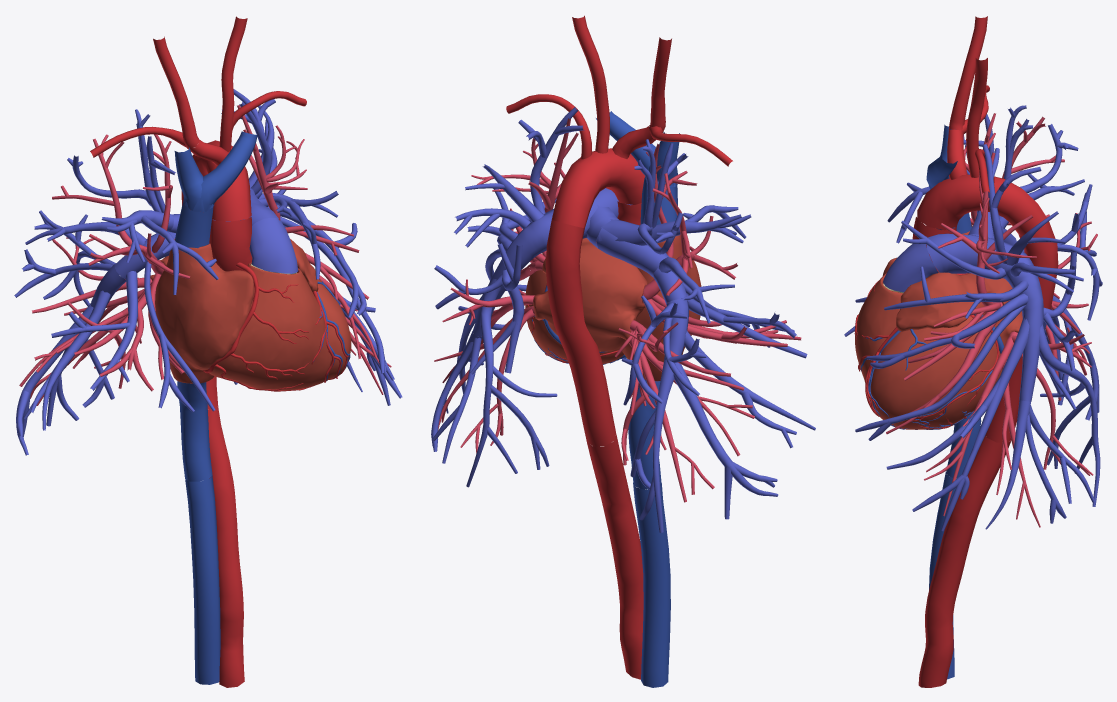
Rendered from heart.glb.
The picture shows the model from 3 angles, left to right: view 1: azimuth 30°, elevation 25°; view 2: azimuth 150°, elevation 25°; view 3: azimuth 270°, elevation 25°; orthographic projection. The views are drawn at different scales.
Visible parts, largest first — view 1: right-ventricle, right-atrium, abdominal-aorta, inferior-vena-cava-abdominal-part, inferior-vena-cava-thoracic-part, anterior-segmental-artery-of-right-lung, pulmonary-trunk, apical-segmental-artery-of-right-lung, superior-segmental-artery-of-right-lung, left-brachiocephalic-vein, ascending-aorta, lateral-segmental-artery-of-right-lung (+29 smaller); view 2: thoracic-aorta, abdominal-aorta, left-atrium, inferior-vena-cava-abdominal-part, aortic-arch, posterior-basal-segmental-artery-of-left-lung, superior-segmental-artery-of-right-lung, anterior-basal-segmental-artery-of-right-lung, apical-segmental-artery-of-right-lung, anterior-basal-segmental-artery-of-left-lung, posterior-segmental-artery-of-left-lung, left-common-carotid-artery (+33 smaller); view 3: left-ventricle, abdominal-aorta, aortic-arch, left-atrium, lateral-basal-segmental-artery-of-left-lung, anterior-basal-segmental-artery-of-left-lung, left-pulmonary-artery, thoracic-aorta, right-ventricle, anterior-segmental-artery-of-left-lung, posterior-basal-segmental-artery-of-left-lung, apicoposterior-vein-of-left-lung (+28 smaller).
Part boxes in pixels (<box>): right-ventricle: <box>204,262,330,390</box>; right-atrium: <box>155,239,253,383</box>; abdominal-aorta: <box>207,407,244,687</box>; inferior-vena-cava-abdominal-part: <box>185,475,220,684</box>; inferior-vena-cava-thoracic-part: <box>177,381,212,481</box>; anterior-segmental-artery-of-right-lung: <box>101,210,218,294</box>; pulmonary-trunk: <box>249,218,298,273</box>; apical-segmental-artery-of-right-lung: <box>67,109,175,212</box>; superior-segmental-artery-of-right-lung: <box>14,210,115,306</box>; left-brachiocephalic-vein: <box>183,131,257,211</box>; ascending-aorta: <box>209,217,252,271</box>; lateral-segmental-artery-of-right-lung: <box>51,271,137,390</box>; thoracic-aorta: <box>545,220,616,446</box>; abdominal-aorta: <box>587,434,643,679</box>; left-atrium: <box>533,238,647,351</box>; inferior-vena-cava-abdominal-part: <box>633,482,670,687</box>; aortic-arch: <box>551,148,644,228</box>; posterior-basal-segmental-artery-of-left-lung: <box>466,278,557,487</box>; superior-segmental-artery-of-right-lung: <box>621,295,706,405</box>; anterior-basal-segmental-artery-of-right-lung: <box>673,362,778,519</box>; apical-segmental-artery-of-right-lung: <box>634,139,688,254</box>; anterior-basal-segmental-artery-of-left-lung: <box>431,331,482,463</box>; posterior-segmental-artery-of-left-lung: <box>454,164,543,247</box>; left-common-carotid-artery: <box>572,15,609,153</box>; left-ventricle: <box>869,315,1002,429</box>; abdominal-aorta: <box>918,436,1010,687</box>; aortic-arch: <box>917,174,1046,236</box>; left-atrium: <box>896,271,1022,346</box>; lateral-basal-segmental-artery-of-left-lung: <box>886,316,1029,531</box>; anterior-basal-segmental-artery-of-left-lung: <box>985,400,1095,529</box>; left-pulmonary-artery: <box>985,238,1043,401</box>; thoracic-aorta: <box>985,221,1058,442</box>; right-ventricle: <box>855,273,902,382</box>; anterior-segmental-artery-of-left-lung: <box>884,220,1028,318</box>; posterior-basal-segmental-artery-of-left-lung: <box>1039,324,1100,506</box>; apicoposterior-vein-of-left-lung: <box>937,152,1036,306</box>.
Size of the model in its own units: 0.256 by 0.4579 by 0.1658.
